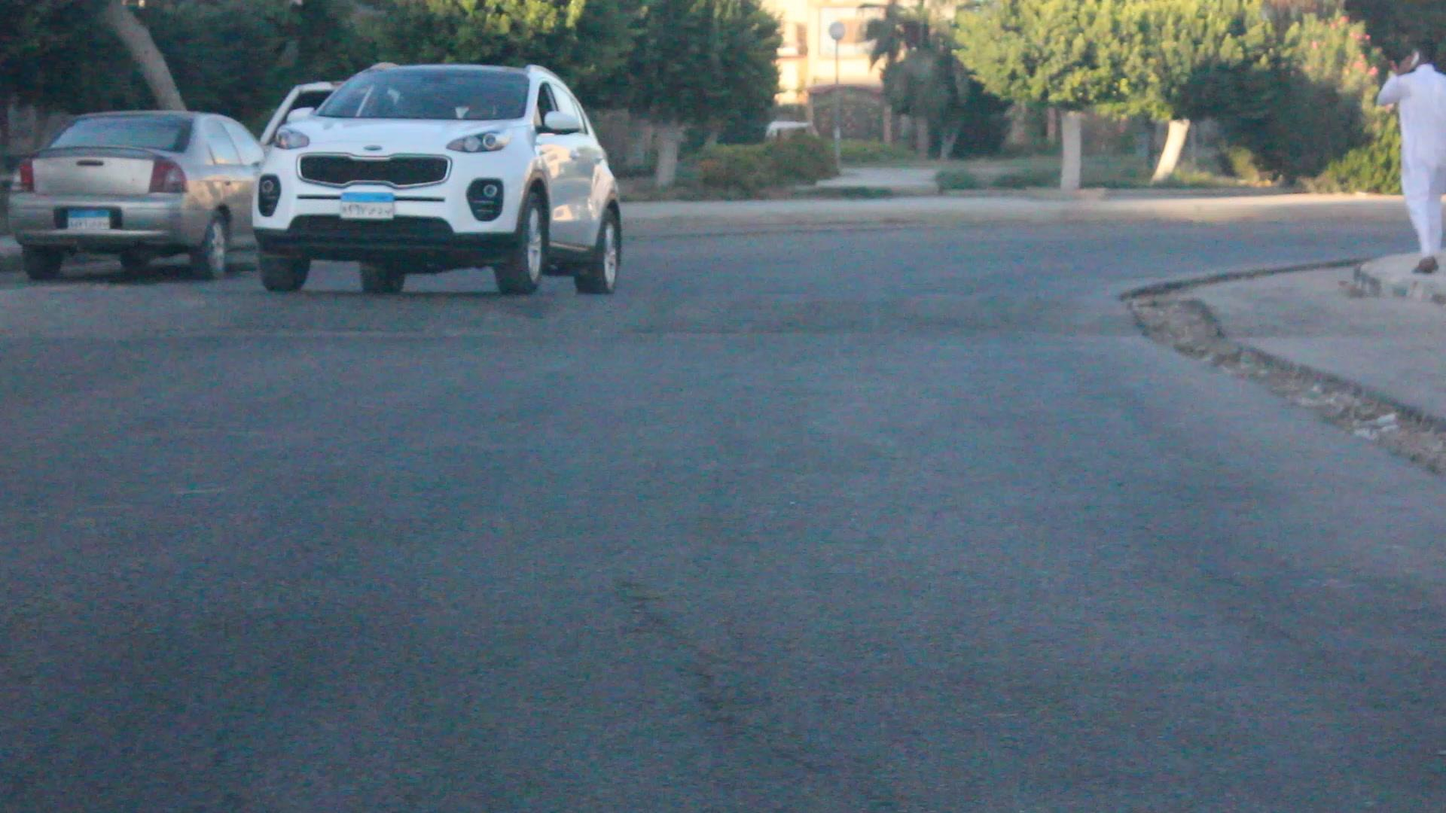Bump: (4, 290, 1150, 344)
